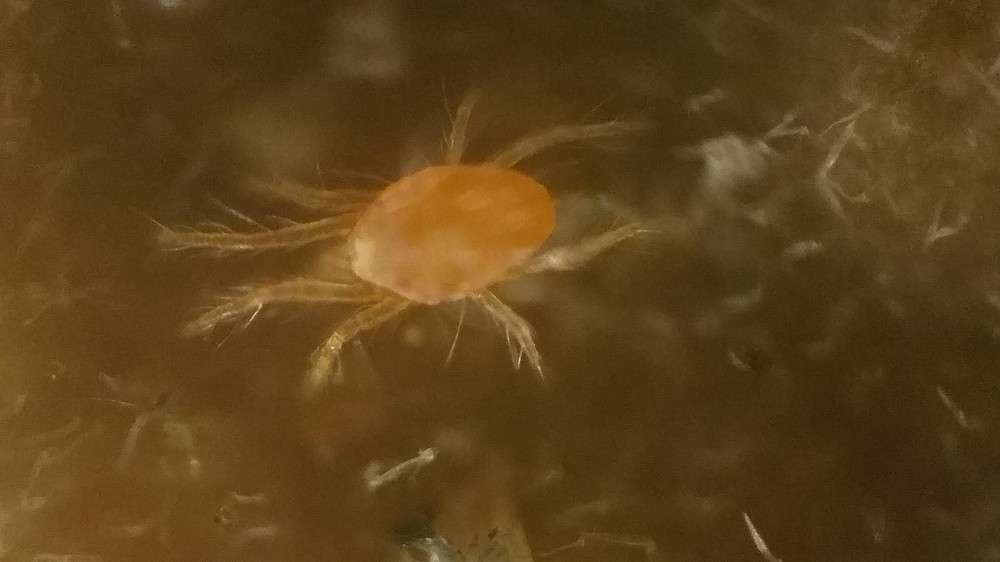Aracnido Rojo: (162, 84, 686, 421)
